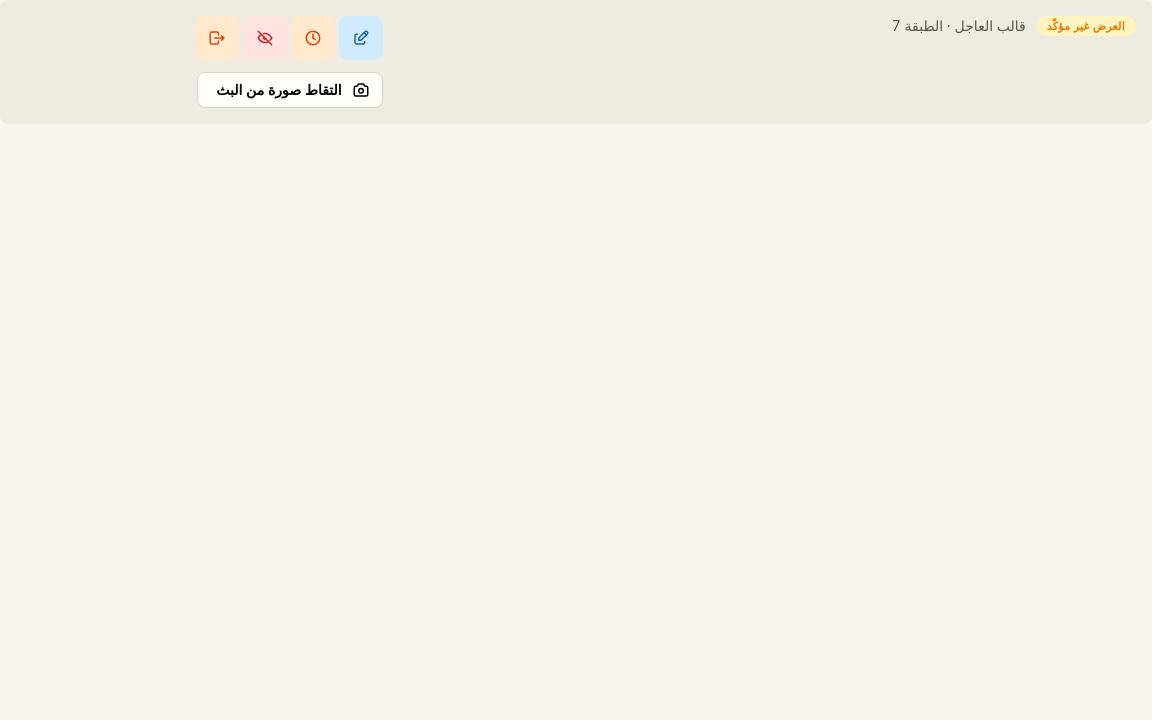
opens the on-air correction from the urgent desk for the same active template
The width and height of the screenshot is (1152, 720).
Click the button named "تحديث النص على الهواء".
click(361, 38)  # box [339, 16, 383, 60]
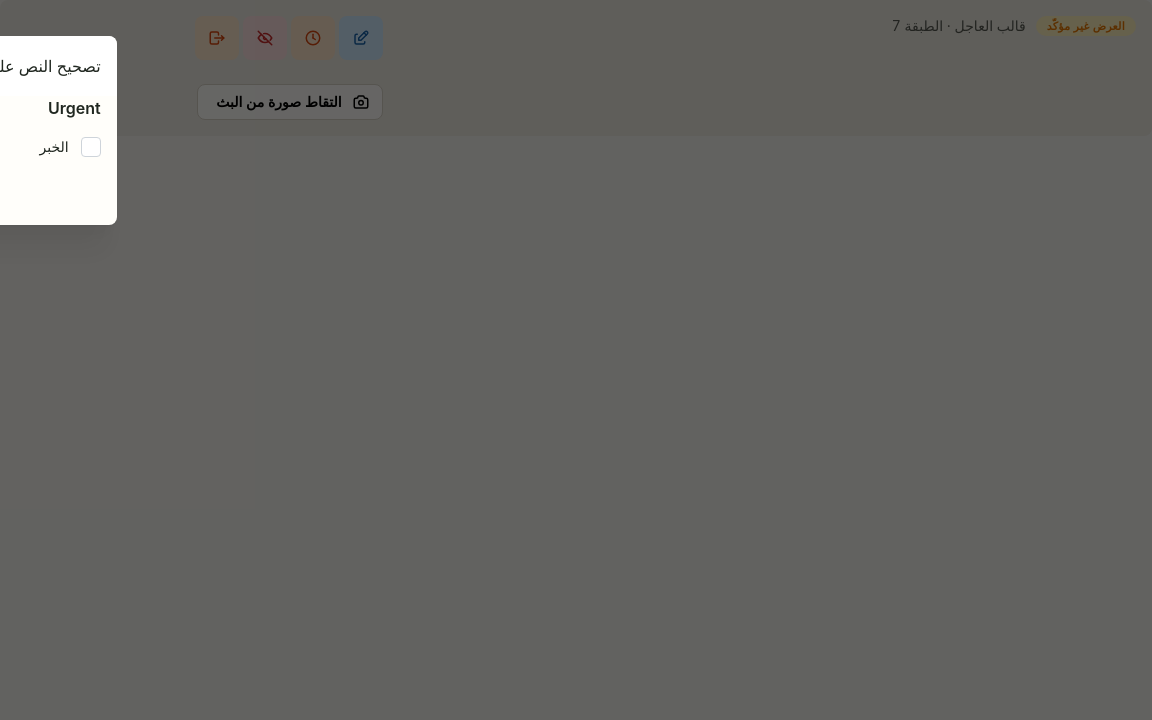
Now the checkbox labelled "الخبر" is shown, box [81, 137, 101, 157]
